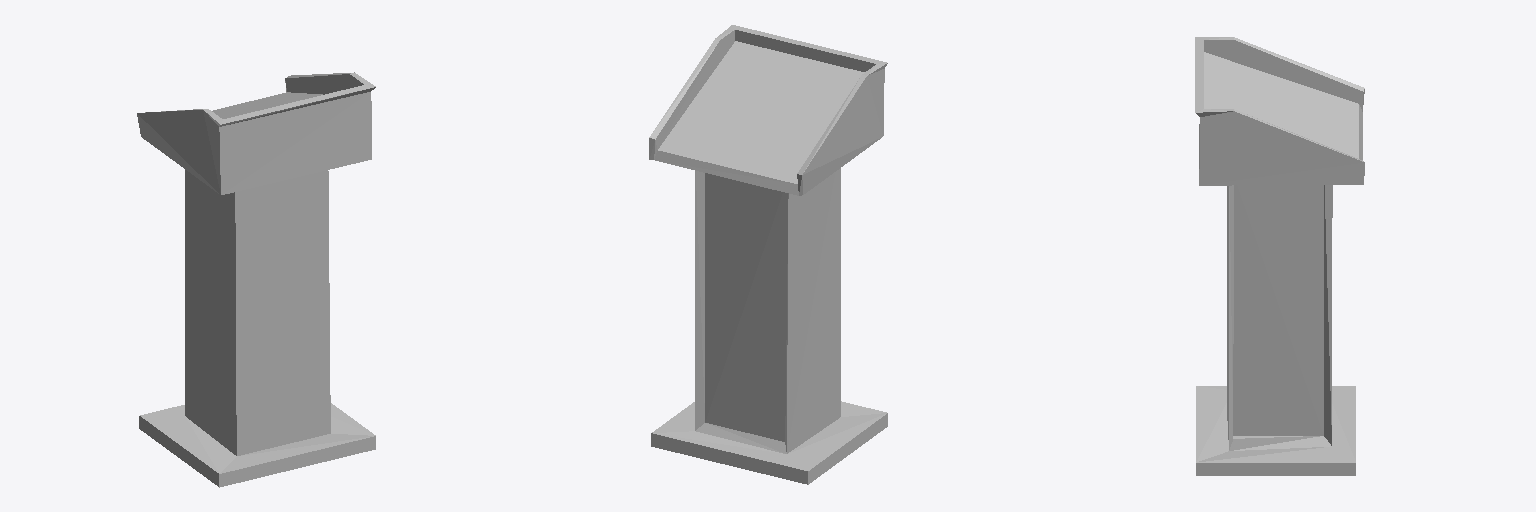
The model's file is PreacherStand_LOD1.obj.
3 renders of one model, left to right at view 1: azimuth 30°, elevation 25°; view 2: azimuth 150°, elevation 25°; view 3: azimuth 270°, elevation 25°, orthographic.
Visible parts, largest first — view 1: PreacherStand; view 2: PreacherStand; view 3: PreacherStand.
Boxes of the visible parts, <box> form: PreacherStand: <box>137,72,375,487</box>; PreacherStand: <box>649,25,887,484</box>; PreacherStand: <box>1195,37,1364,475</box>.
Size of the model in its own units: 0.6942 by 1.54 by 0.6519.